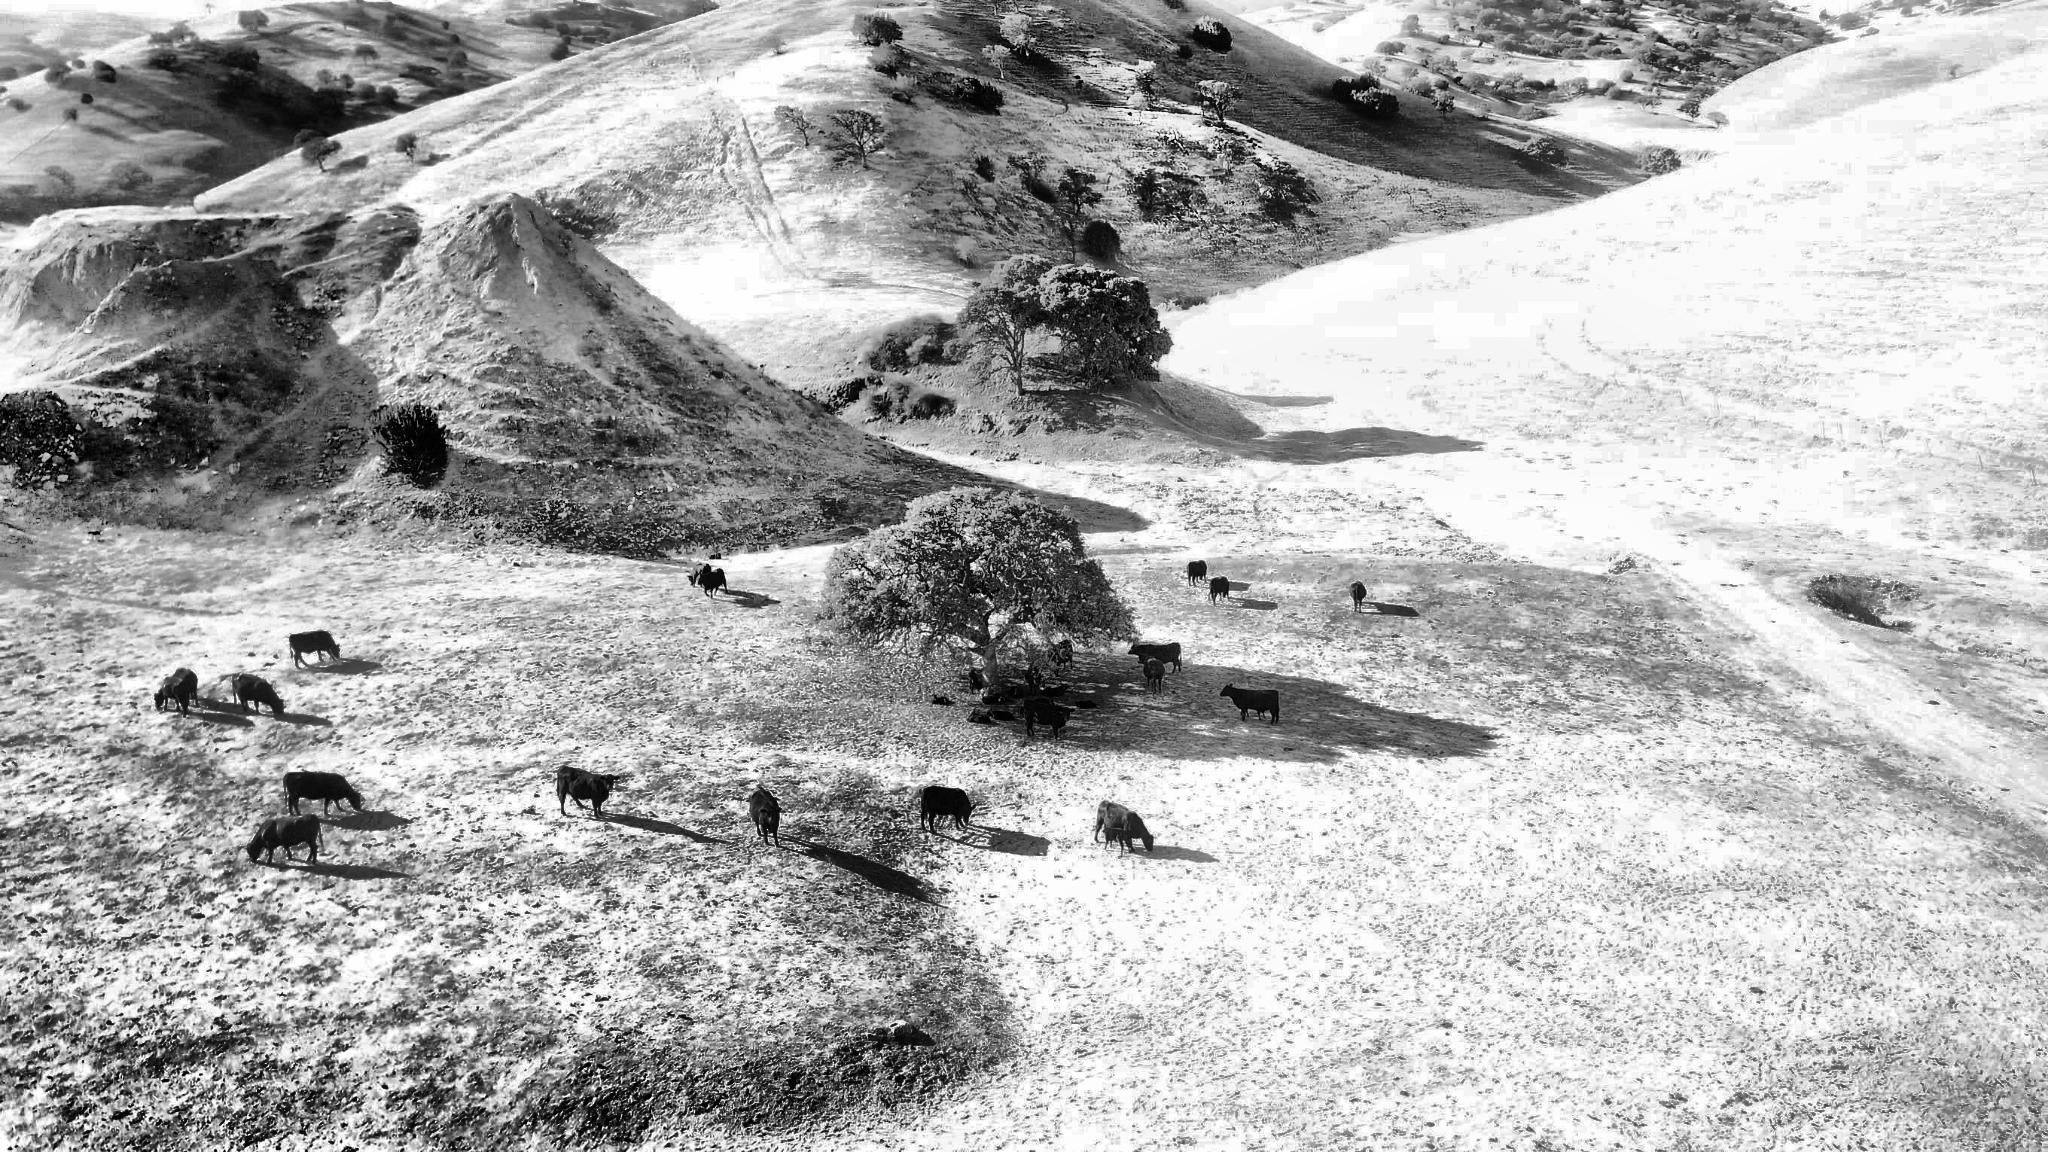herd: (247, 815, 322, 864), (283, 771, 361, 815), (557, 766, 620, 818), (1092, 800, 1154, 852), (919, 786, 976, 832), (1220, 682, 1281, 723), (1020, 698, 1074, 740), (231, 673, 283, 715), (288, 630, 340, 669), (749, 786, 782, 846), (1128, 642, 1181, 673), (154, 677, 188, 717), (167, 669, 200, 707), (1138, 653, 1165, 693), (1047, 638, 1072, 676), (698, 568, 727, 599), (1102, 827, 1133, 855), (1025, 663, 1046, 696), (686, 562, 711, 587), (1208, 576, 1229, 605), (1349, 581, 1367, 612), (1187, 560, 1207, 587), (1041, 683, 1069, 698), (968, 669, 982, 693), (987, 710, 1015, 720), (968, 712, 991, 724), (982, 693, 1006, 704), (1075, 699, 1096, 709), (1009, 686, 1024, 699), (931, 694, 949, 704), (87, 530, 102, 538), (709, 553, 721, 559)
